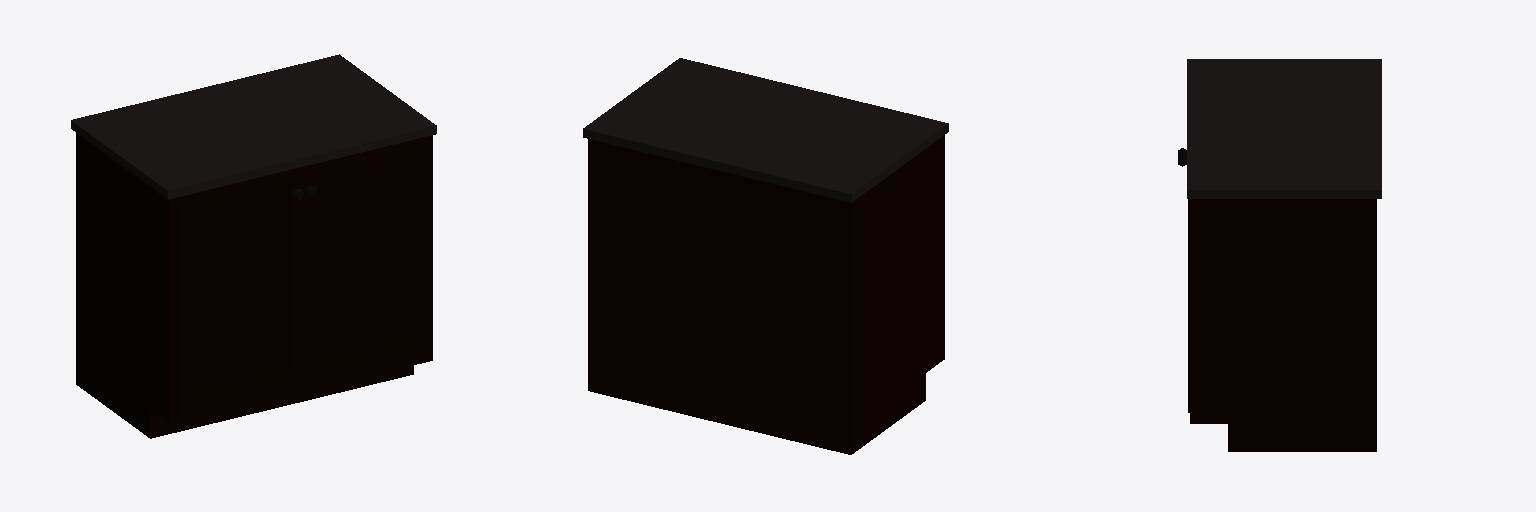
File: DoubleDoorBaseCabinet1.obj
3 views of the same model, side by side, from view 1: azimuth 30°, elevation 25°; view 2: azimuth 150°, elevation 25°; view 3: azimuth 270°, elevation 25° (orthographic).
Visible parts, largest first — view 1: DoubleDoorbaseCabinet1_Cube.002, DoorR1SingleDoorbaseCabinet1_Cube.001, DoorL1SingleDoorbaseCabinet1_Cube.003; view 2: DoubleDoorbaseCabinet1_Cube.002; view 3: DoubleDoorbaseCabinet1_Cube.002.
Boxes of the visible parts, x1,y1,x2,y2 form: DoubleDoorbaseCabinet1_Cube.002: [71, 54, 436, 438]; DoorR1SingleDoorbaseCabinet1_Cube.001: [177, 173, 303, 415]; DoorL1SingleDoorbaseCabinet1_Cube.003: [301, 143, 425, 385]; DoubleDoorbaseCabinet1_Cube.002: [583, 58, 948, 454]; DoubleDoorbaseCabinet1_Cube.002: [1187, 59, 1381, 451].
Size of the model in its own units: 0.9707 by 0.9081 by 0.6359.